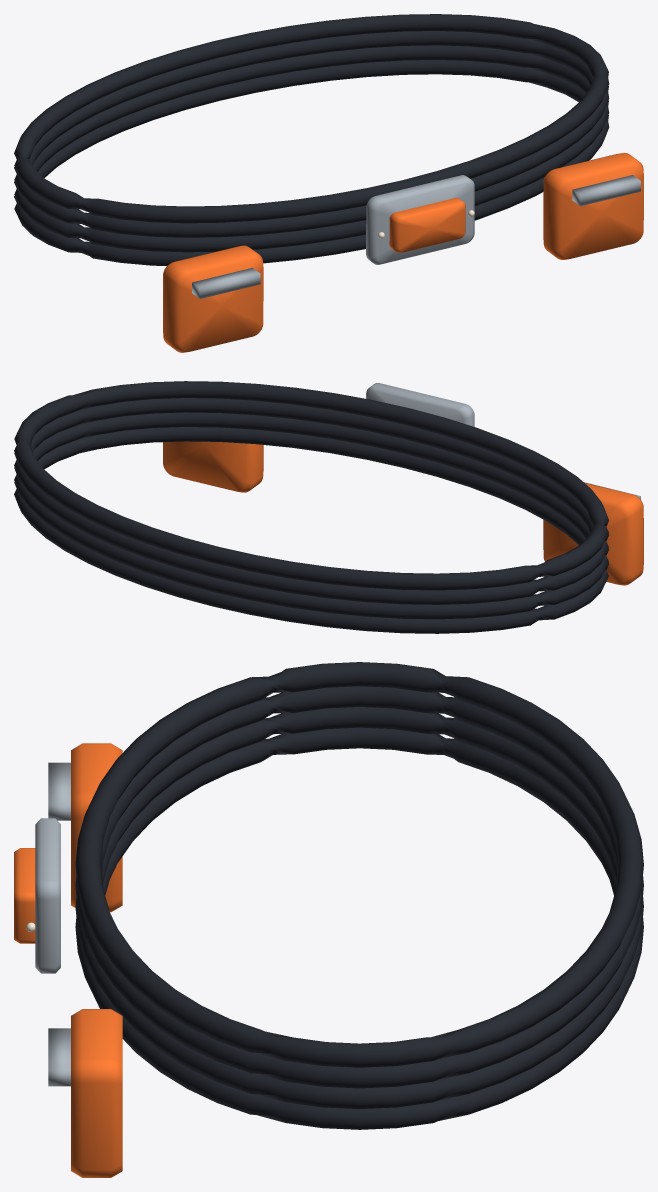
Rendered from sol_utility_belt.glb.
3 views of the same model, one above another, from view 1: azimuth 30°, elevation 25°; view 2: azimuth 150°, elevation 25°; view 3: azimuth 270°, elevation 25° (orthographic). The views are drawn at different scales.
Parts seen in each view (by area): view 1: sol_utility_belt_dark, sol_utility_belt_accent, sol_utility_belt_metal; view 2: sol_utility_belt_dark, sol_utility_belt_accent, sol_utility_belt_metal; view 3: sol_utility_belt_dark, sol_utility_belt_accent, sol_utility_belt_metal.
Boxes of the visible parts, bbox=[...] form: sol_utility_belt_dark: bbox=[14, 14, 609, 265]; sol_utility_belt_accent: bbox=[163, 152, 643, 352]; sol_utility_belt_metal: bbox=[192, 175, 640, 298]; sol_utility_belt_dark: bbox=[14, 381, 608, 633]; sol_utility_belt_accent: bbox=[163, 441, 643, 585]; sol_utility_belt_metal: bbox=[366, 383, 640, 499]; sol_utility_belt_dark: bbox=[75, 662, 643, 1129]; sol_utility_belt_accent: bbox=[14, 743, 122, 1177]; sol_utility_belt_metal: bbox=[35, 762, 70, 1086].
Size of the model in its own units: 0.325 by 0.066 by 0.2205.
